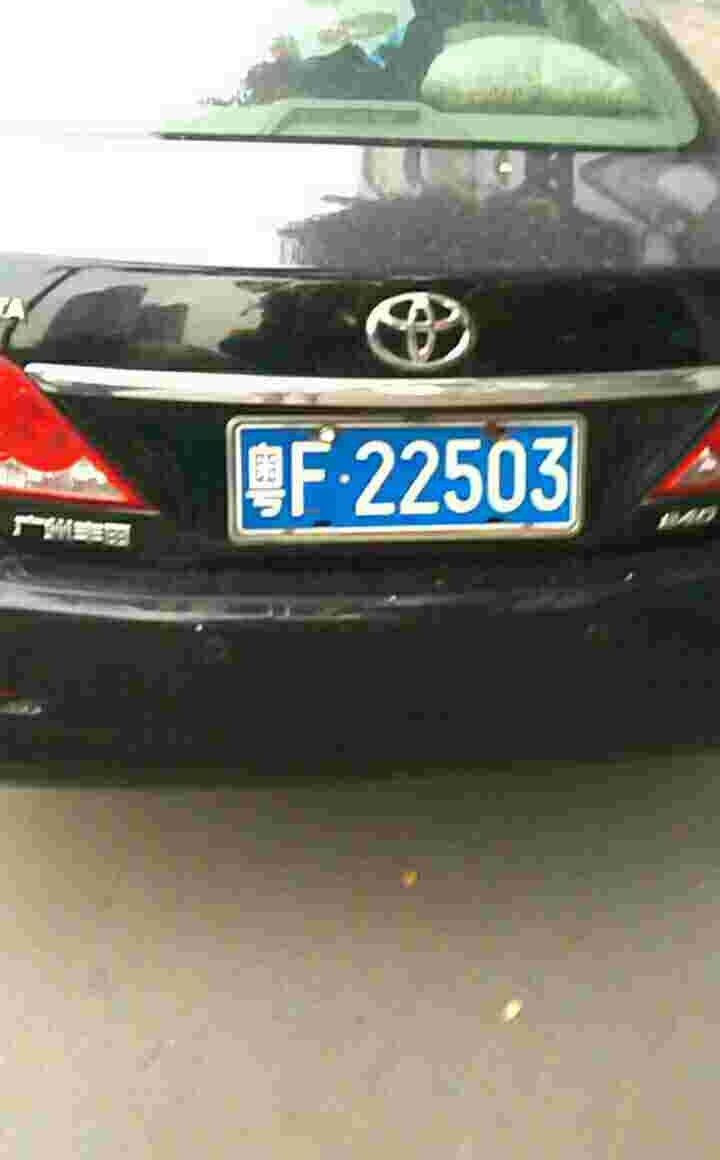car: (238, 419, 589, 539)
